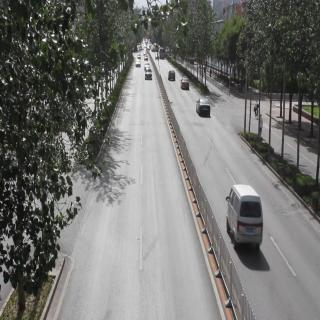BigCar: (159, 48, 166, 62)
Car: (226, 182, 265, 252), (193, 93, 214, 123), (180, 75, 191, 93), (166, 68, 178, 84), (145, 68, 154, 80), (134, 58, 142, 71)
